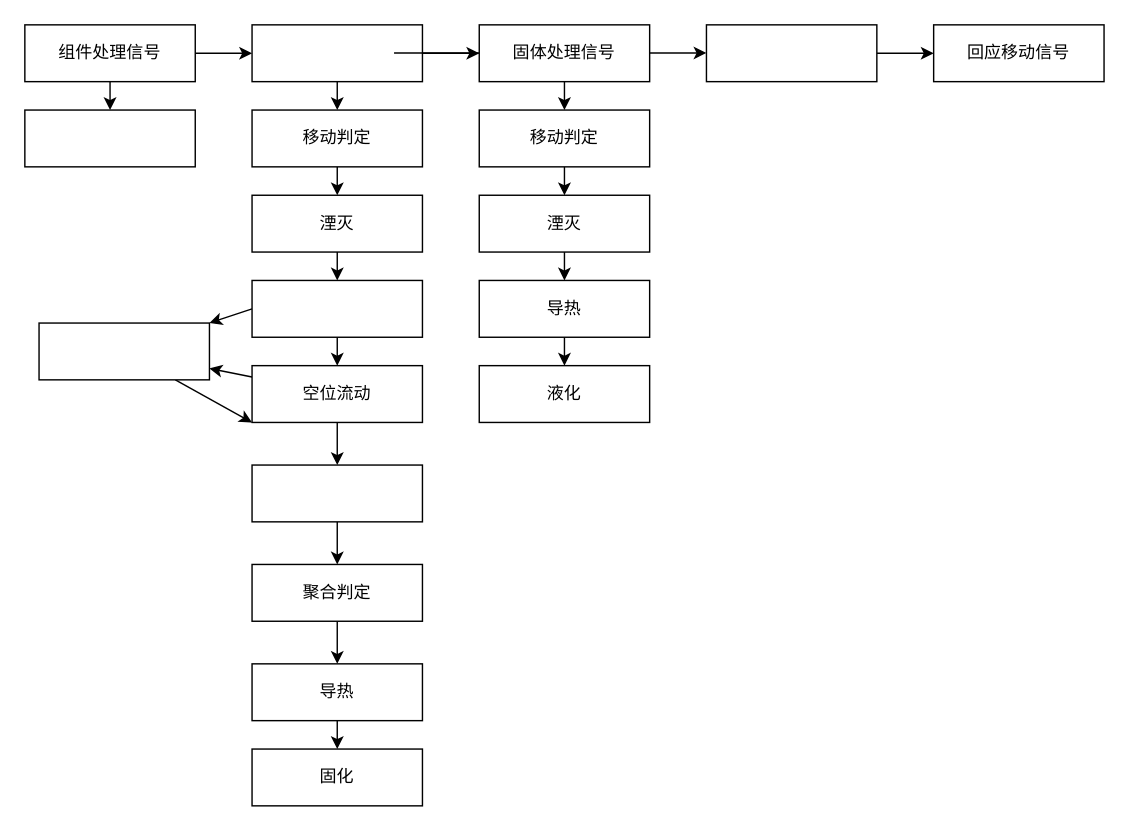
Some shapes in this 1129 by 831 pixel diagram are drawn without their labels. Each missing label, with the box of its shape:
内部流动: (251, 464, 422, 522)
分解: (251, 279, 422, 337)
发出移动信号: (23, 109, 195, 167)
尝试挤压: (38, 322, 209, 380)
气体处理信号: (705, 23, 877, 82)
液体处理信号: (251, 23, 422, 82)
